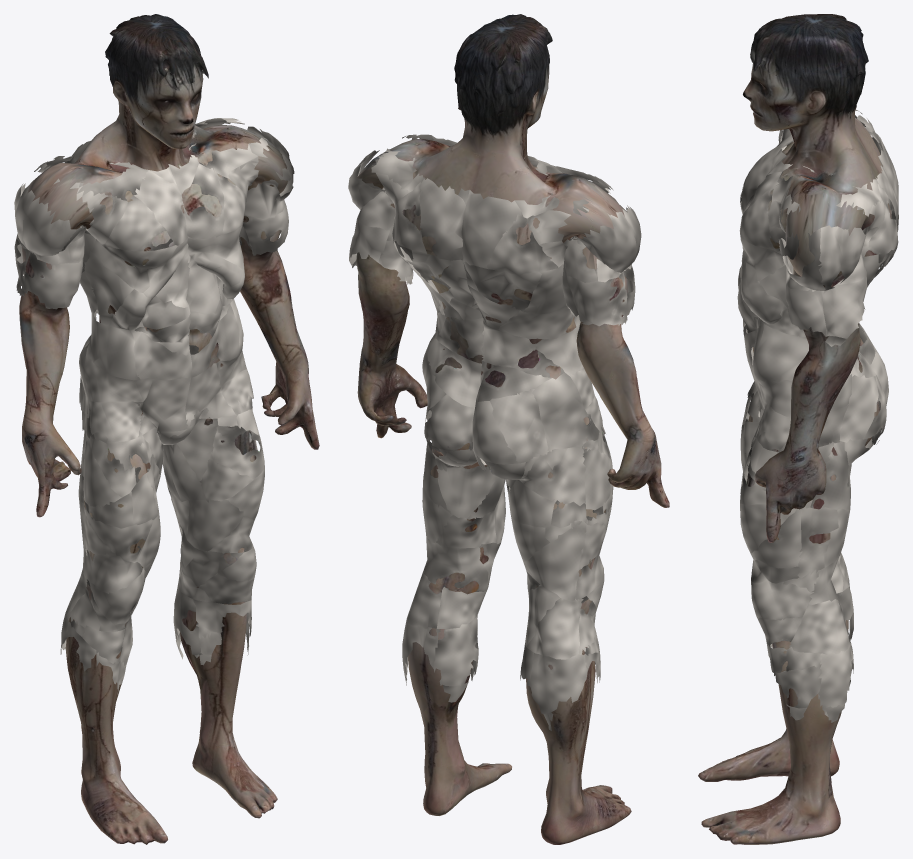
The model's file is ghoul_npc.glb.
The picture shows the model from 3 angles, left to right: view 1: azimuth 30°, elevation 25°; view 2: azimuth 150°, elevation 25°; view 3: azimuth 270°, elevation 25°; orthographic projection. The views are drawn at different scales.
Parts seen in each view (by area): view 1: char; view 2: char; view 3: char.
Boxes of the visible parts, x1,y1,x2,y2 form: char: (14,14,319,844); char: (348,14,669,844); char: (698,14,898,844).
Bounding box in the file's own units: 1 × 2.62 × 0.6067.
Materials: 3 (3 with a texture image).
